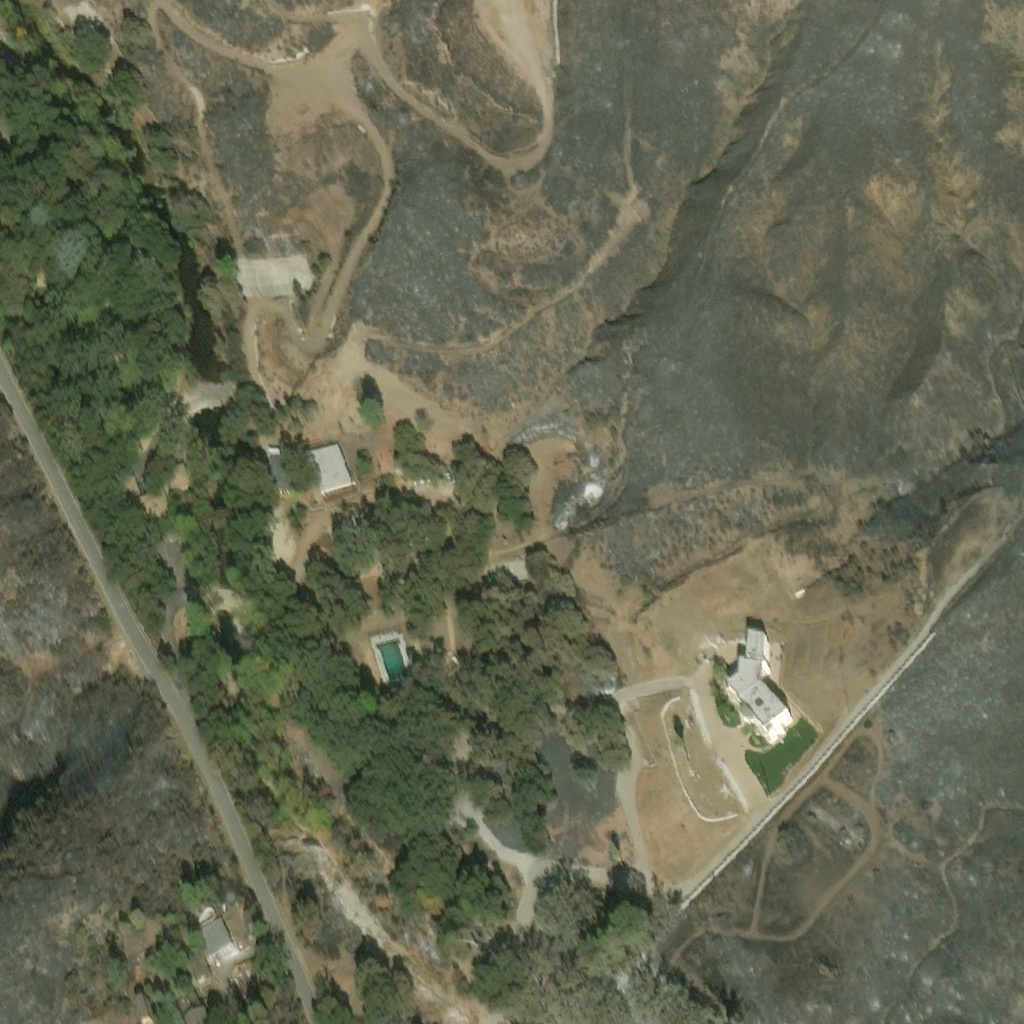0 no-damage: (721, 626, 791, 730), (116, 467, 173, 522), (307, 437, 355, 498), (170, 981, 217, 1023), (195, 914, 233, 953), (267, 445, 300, 487), (210, 583, 246, 608), (163, 462, 191, 493), (131, 993, 156, 1023)
4 un-classified: (236, 237, 310, 298), (61, 0, 98, 20), (562, 483, 583, 506)
